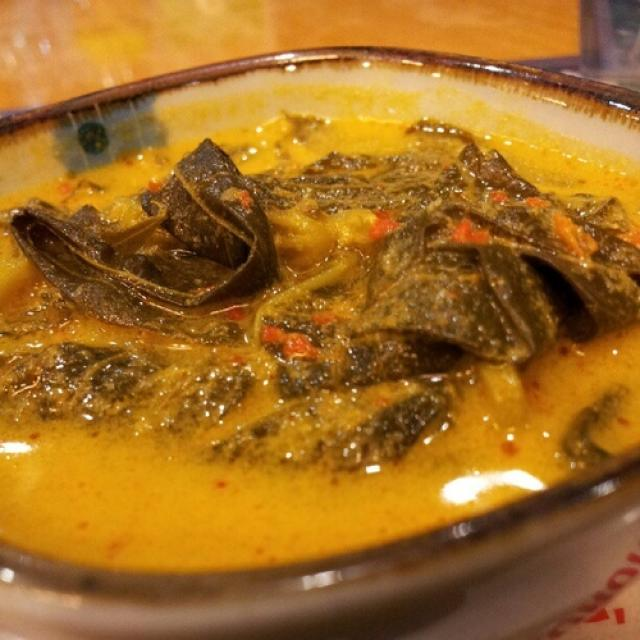熟制海鲜: (9, 23, 616, 599)
